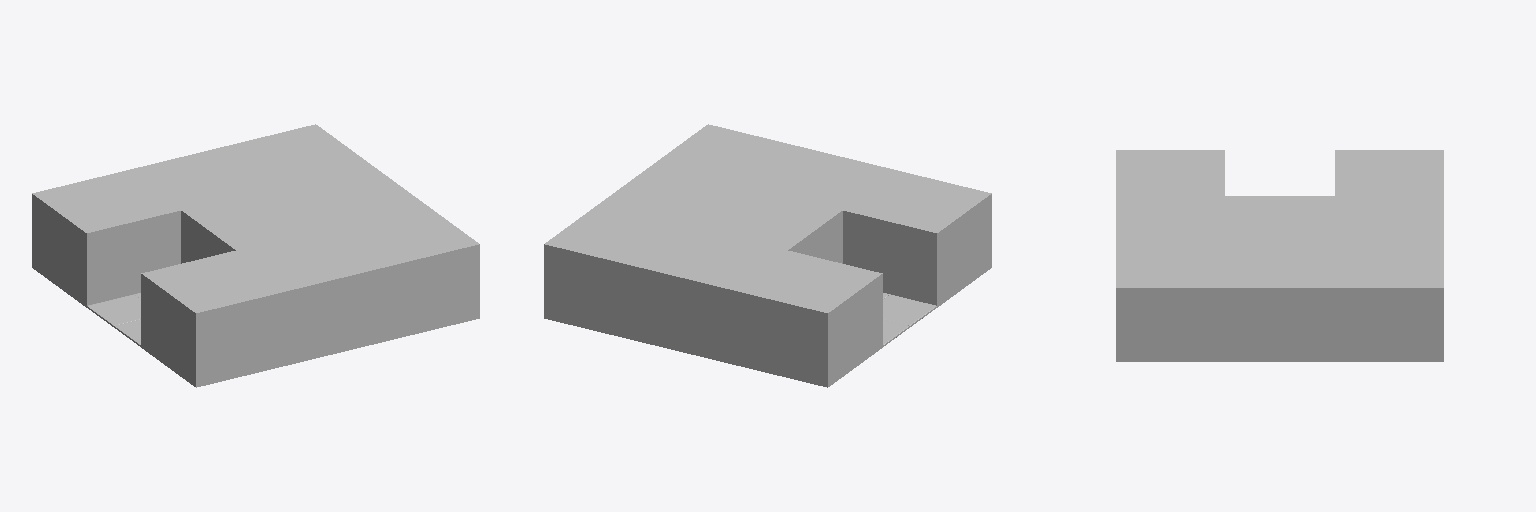
File: Corredor_Sin salida_tipo A_4.obj
3 renders of one model, left to right at view 1: azimuth 30°, elevation 25°; view 2: azimuth 150°, elevation 25°; view 3: azimuth 270°, elevation 25°, orthographic.
Visible parts, largest first — view 1: polySurface21; view 2: polySurface21; view 3: polySurface21.
Part boxes in pixels (bbox=[...]): polySurface21: bbox=[32, 124, 479, 387]; polySurface21: bbox=[544, 124, 991, 387]; polySurface21: bbox=[1116, 150, 1443, 361].
Bounding box in the file's own units: 144 × 36 × 144.